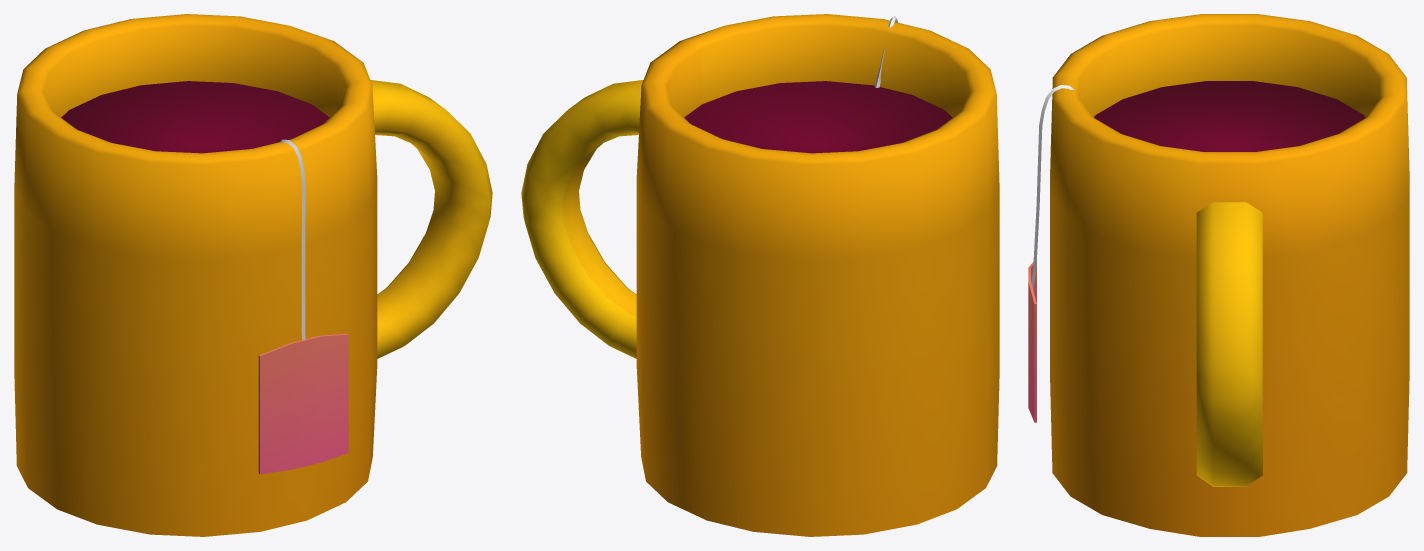
The model's file is Cup3.fbx.
The picture shows the model from 3 angles, left to right: view 1: azimuth 30°, elevation 25°; view 2: azimuth 150°, elevation 25°; view 3: azimuth 270°, elevation 25°; orthographic projection.
Visible parts, largest first — view 1: Cup3_1; view 2: Cup3_1; view 3: Cup3_1.
Boxes of the visible parts, x1,y1,x2,y2 form: Cup3_1: (14,14,492,536); Cup3_1: (521,14,999,536); Cup3_1: (1028,14,1409,536).
Size of the model in its own units: 605 by 496 by 449.
